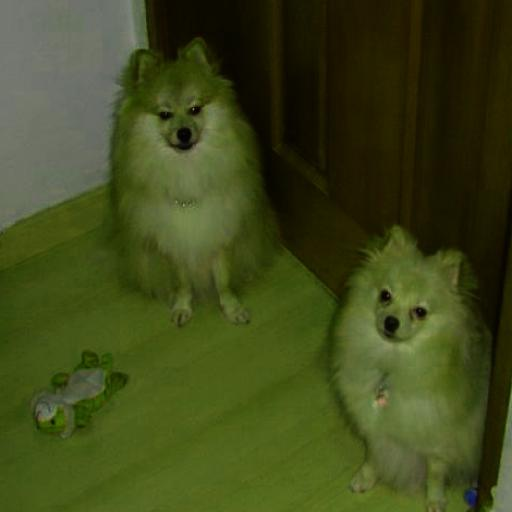dog_face: (354, 227, 472, 350), (120, 40, 220, 153)
